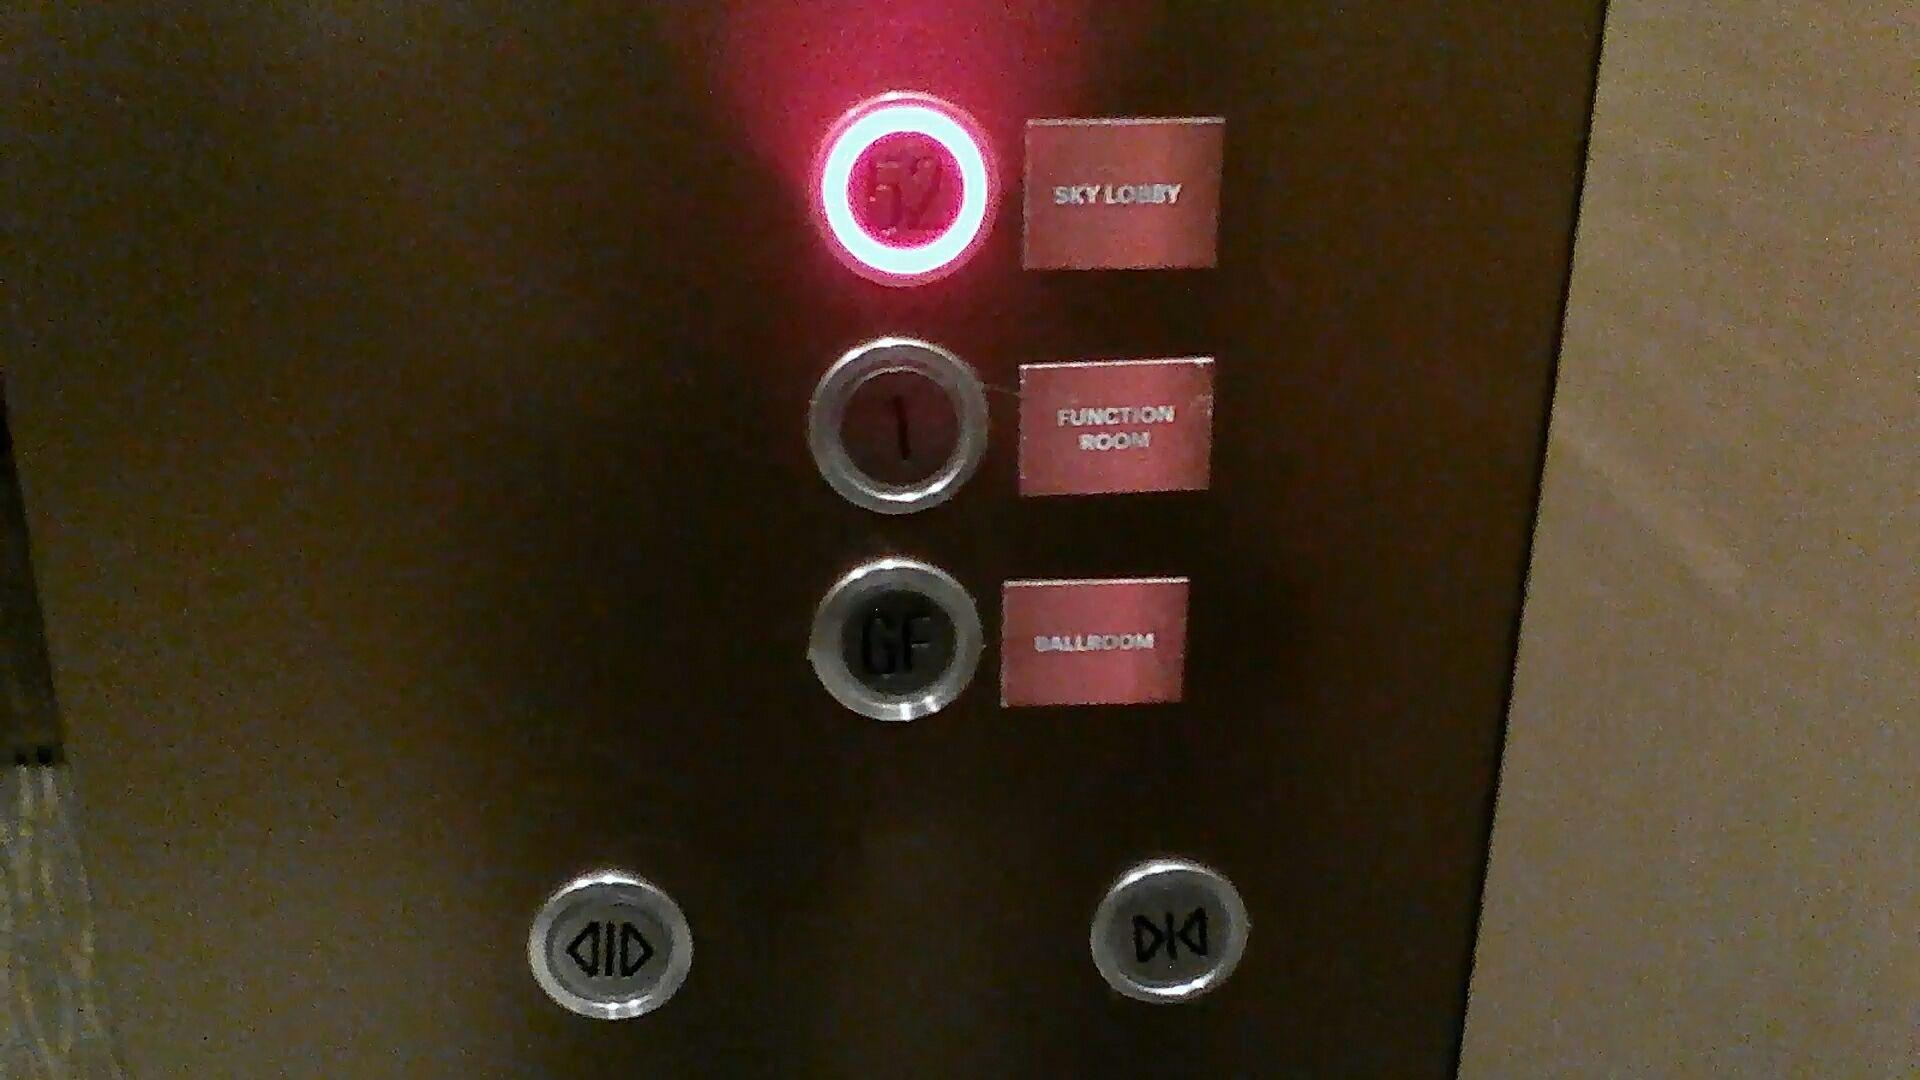1: (800, 326, 993, 525)
52: (802, 79, 1002, 293)
GF: (802, 549, 982, 727)
close: (1083, 851, 1261, 1011)
open: (521, 865, 699, 1026)
